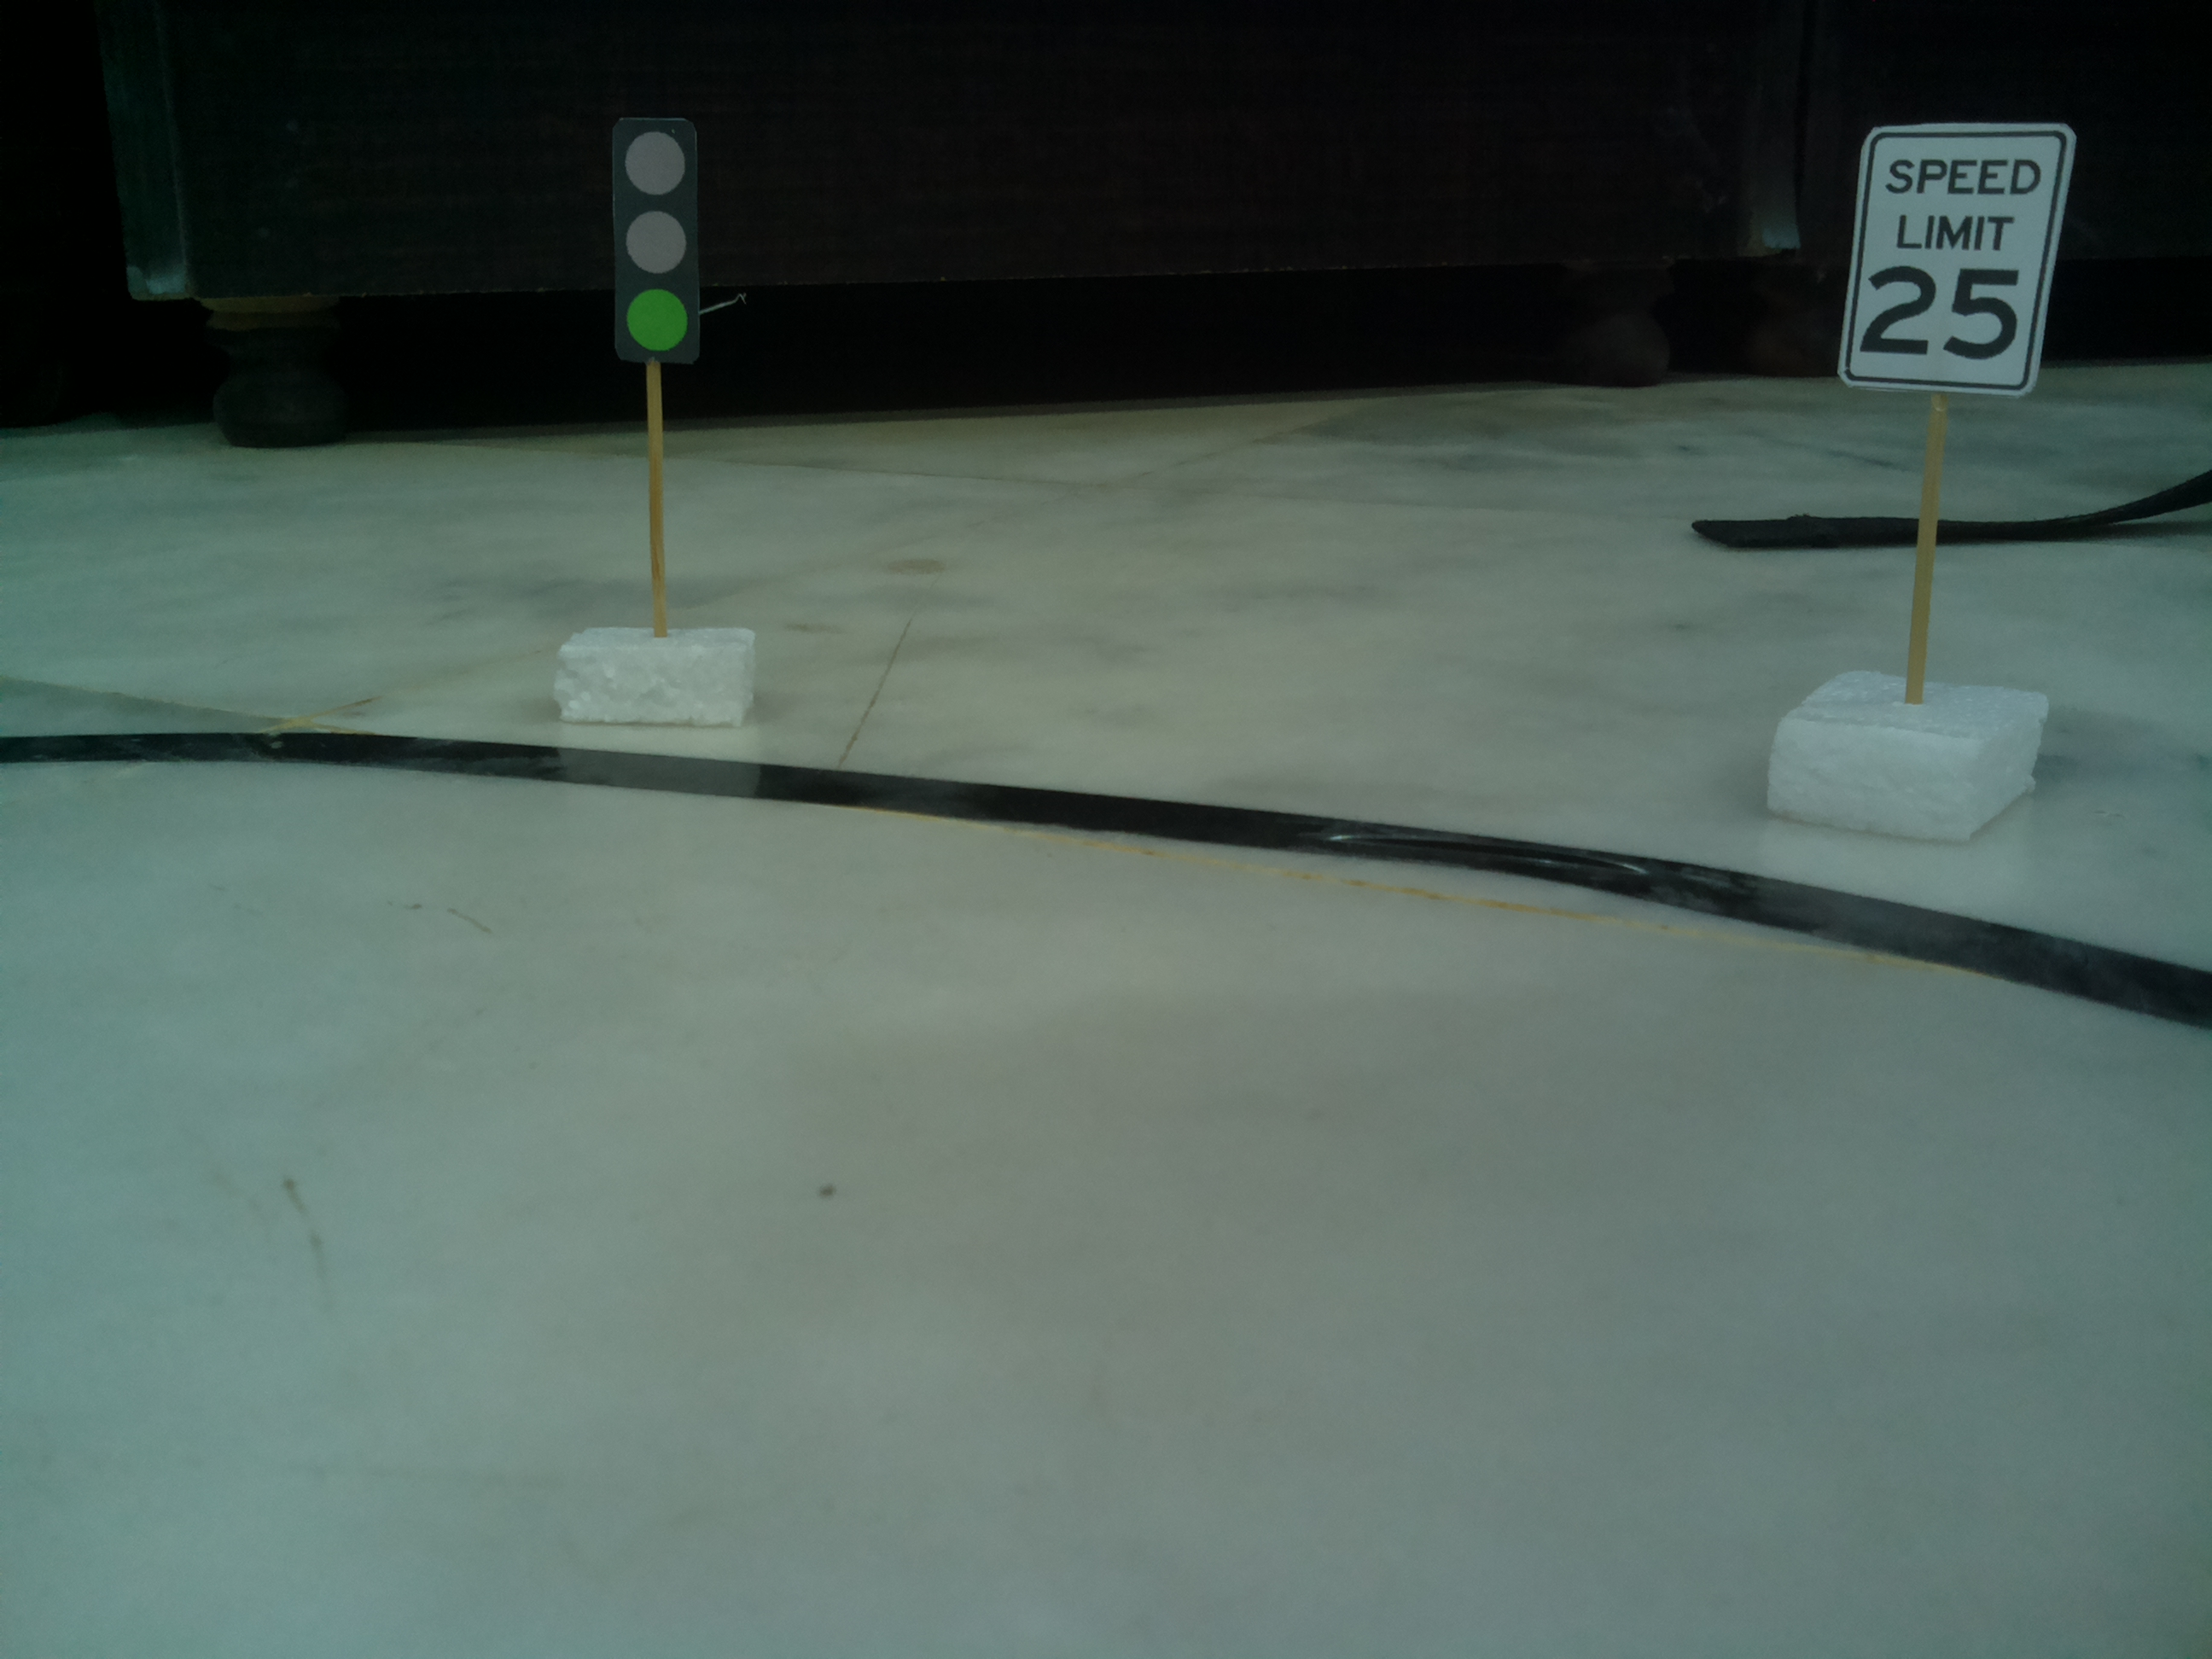Green traffic light: (599, 112, 712, 371)
Speed limit 25: (1832, 115, 2080, 401)
